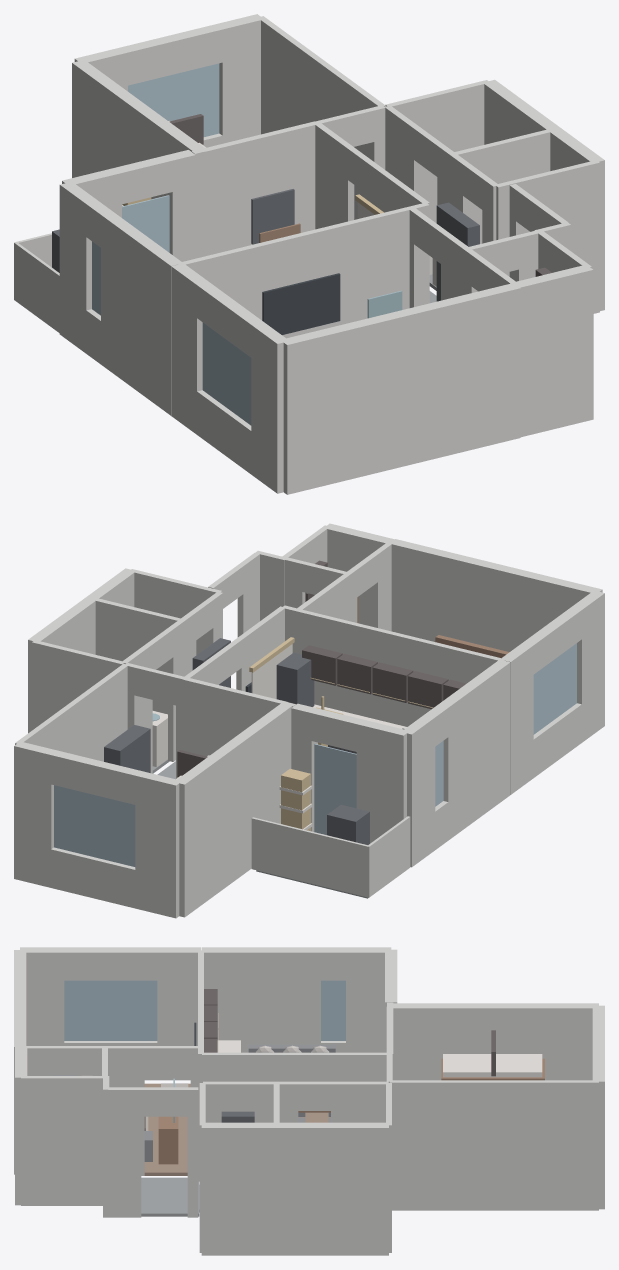
Rendered from kvartira-graphite-school-dinner.glb.
The picture shows the model from 3 angles, top to bottom: view 1: azimuth 30°, elevation 25°; view 2: azimuth 150°, elevation 25°; view 3: azimuth 270°, elevation 25°; orthographic projection. The views are drawn at different scales.
Visible parts, largest first — view 1: wall_w_l_s_166_612_0.0, wall_w_dividing_168_644_0.0, wall_w_closet_s_612_752_0.0, wall_w_k_w_559_791_0.0, wall_w_top_s_426_660_0.0, wall_w_top_w_20_423_0.0, wall_w_top_e_20_425_0.0, wall_w_wc_s_777_971_0.0, wall_w_l_w_1057_1143_0.0, wall_w_top_n_691_771_0.0, wall_w_bath_n_777_971_0.0, wall_w_k_w_423_511_0.0 (+40 smaller); view 2: wall_w_l_s_166_612_0.0, wall_w_top_w_20_423_0.0, wall_w_dividing_168_644_0.0, wall_w_k_w_559_791_0.0, wall_w_top_n_422_510_0.0, wall_w_log_n_159_409_0.0, wall_w_top_n_691_771_0.0, wall_w_top_e_20_425_0.0, wall_w_top_n_510_691_0.8, wall_w_k_n1_165_266_0.0, wall_w_k_n2_408_643_0.0, wall_w_bath_n_777_971_0.0 (+51 smaller); view 3: wall_w_top_e_20_425_0.0, wall_w_bath_e_427_791_0.0, wall_w_top_w_20_423_0.0, wall_w_k_w_559_791_0.0, wall_w_closet_e_978_1141_0.0, wall_w_l_w_877_1057_0.8, wall_w_entry_e_908_972_0.0, wall_w_l_w_792_877_0.0, wall_w_k_w_423_511_0.0, wall_w_l_w_1057_1143_0.0, wall_w_l_w_877_1057_2.1, wall_w_k_e_625_790_0.0 (+30 smaller).
Part boxes in pixels (box(x1,y1,x2,y2)): wall_w_l_s_166_612_0.0: box(281, 283, 520, 494); wall_w_dividing_168_644_0.0: box(178, 202, 429, 338); wall_w_closet_s_612_752_0.0: box(516, 265, 593, 437); wall_w_k_w_559_791_0.0: box(101, 212, 182, 415); wall_w_top_s_426_660_0.0: box(204, 119, 327, 256); wall_w_top_w_20_423_0.0: box(72, 60, 204, 199); wall_w_top_e_20_425_0.0: box(258, 16, 385, 219); wall_w_wc_s_777_971_0.0: box(495, 161, 599, 313); wall_w_l_w_1057_1143_0.0: box(251, 322, 289, 493); wall_w_top_n_691_771_0.0: box(216, 14, 263, 143); wall_w_bath_n_777_971_0.0: box(385, 80, 489, 223); wall_w_k_w_423_511_0.0: box(59, 183, 98, 353); wall_w_l_s_166_612_0.0: box(390, 539, 602, 651); wall_w_top_w_20_423_0.0: box(174, 703, 292, 917); wall_w_dividing_168_644_0.0: box(282, 605, 505, 726); wall_w_k_w_559_791_0.0: box(437, 659, 510, 840); wall_w_top_n_422_510_0.0: box(135, 771, 181, 918); wall_w_log_n_159_409_0.0: box(251, 817, 368, 897); wall_w_top_n_691_771_0.0: box(14, 742, 56, 887); wall_w_top_e_20_425_0.0: box(15, 663, 127, 761); wall_w_top_n_510_691_0.8: box(54, 785, 135, 866); wall_w_k_n1_165_266_0.0: box(356, 719, 409, 843); wall_w_k_n2_408_643_0.0: box(183, 679, 295, 756); wall_w_bath_n_777_971_0.0: box(32, 641, 124, 730); wall_w_top_e_20_425_0.0: box(390, 1080, 598, 1210); wall_w_bath_e_427_791_0.0: box(201, 1122, 388, 1255); wall_w_top_w_20_423_0.0: box(391, 1003, 598, 1080); wall_w_k_w_559_791_0.0: box(201, 947, 320, 1052); wall_w_closet_e_978_1141_0.0: box(21, 1076, 104, 1205); wall_w_l_w_877_1057_0.8: box(64, 980, 157, 1040); wall_w_entry_e_908_972_0.0: box(108, 1087, 141, 1217); wall_w_l_w_792_877_0.0: box(157, 947, 200, 1080); wall_w_k_w_423_511_0.0: box(346, 947, 391, 1052); wall_w_l_w_1057_1143_0.0: box(20, 947, 64, 1045); wall_w_l_w_877_1057_2.1: box(64, 947, 157, 980); wall_w_k_e_625_790_0.0: box(202, 1052, 286, 1111).
Bounding box in the file's own units: 8.24 × 2.77 × 11.41.
